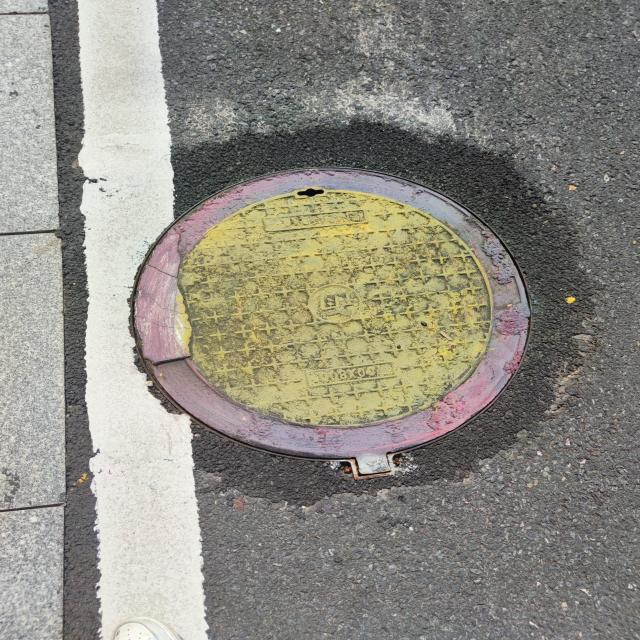Good: (121, 161, 539, 483)
